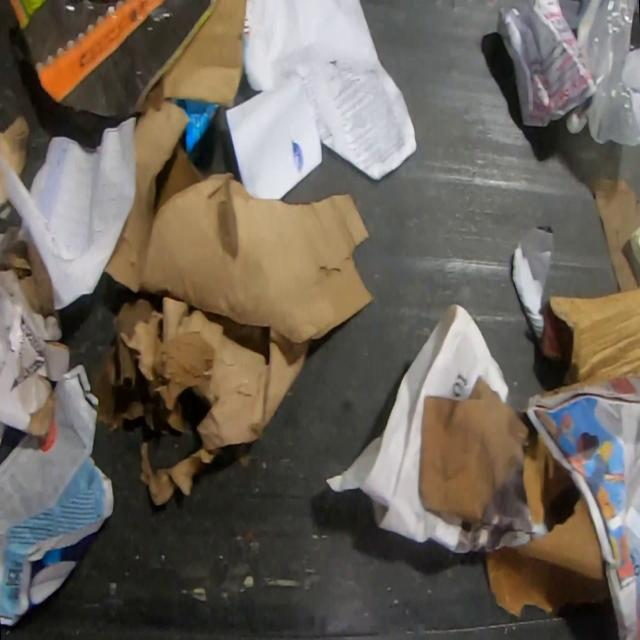cardboard: (103, 0, 374, 347), (4, 0, 217, 120), (0, 222, 71, 446), (536, 286, 640, 385), (520, 423, 574, 525), (152, 132, 208, 219), (0, 113, 30, 213), (168, 98, 218, 155)
soft_plastic: (575, 0, 640, 148)
